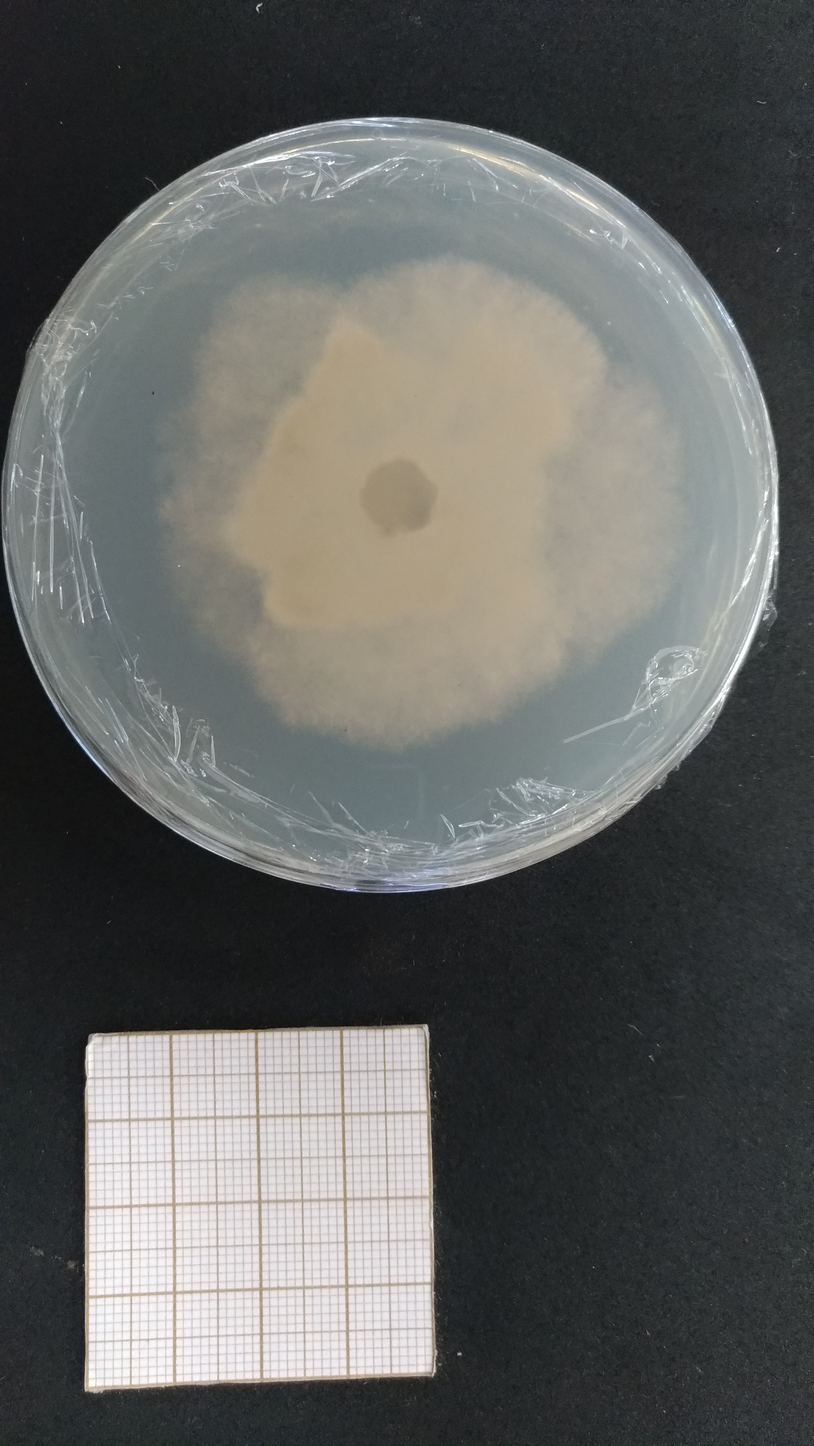escala: (83, 1026, 433, 1386)
fungo: (161, 254, 691, 750)
